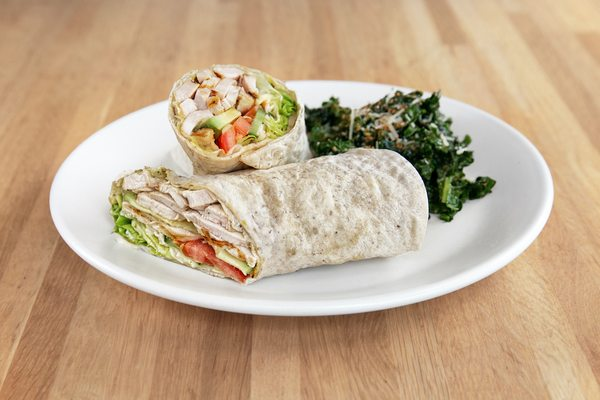curry: (349, 88, 498, 223), (304, 96, 355, 155)
soup: (110, 148, 430, 283), (166, 63, 314, 174)
